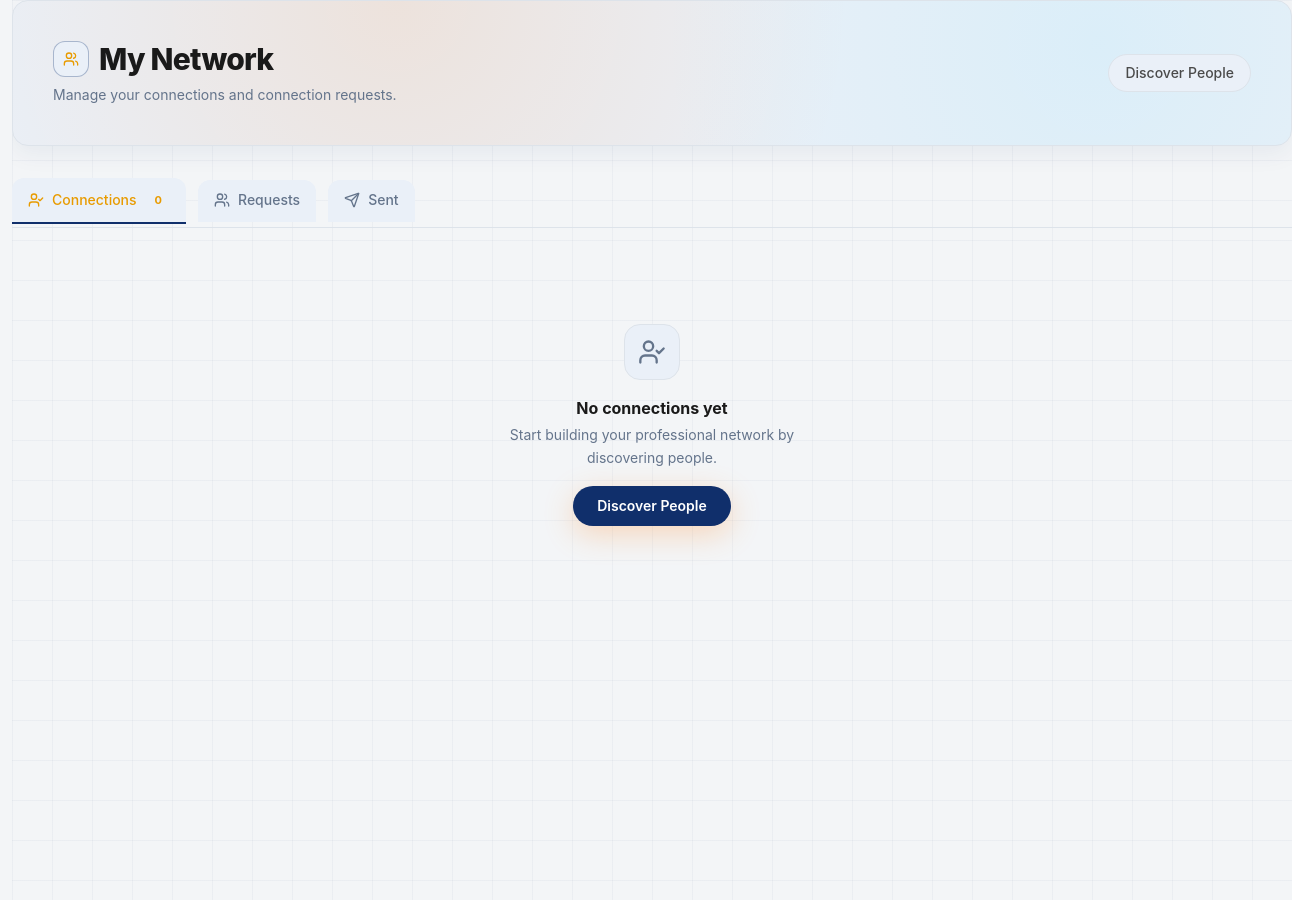
Test: 15. Rejected request disappears from Requests list
Click the tab "Requests": (257,201) [198,180,316,222]
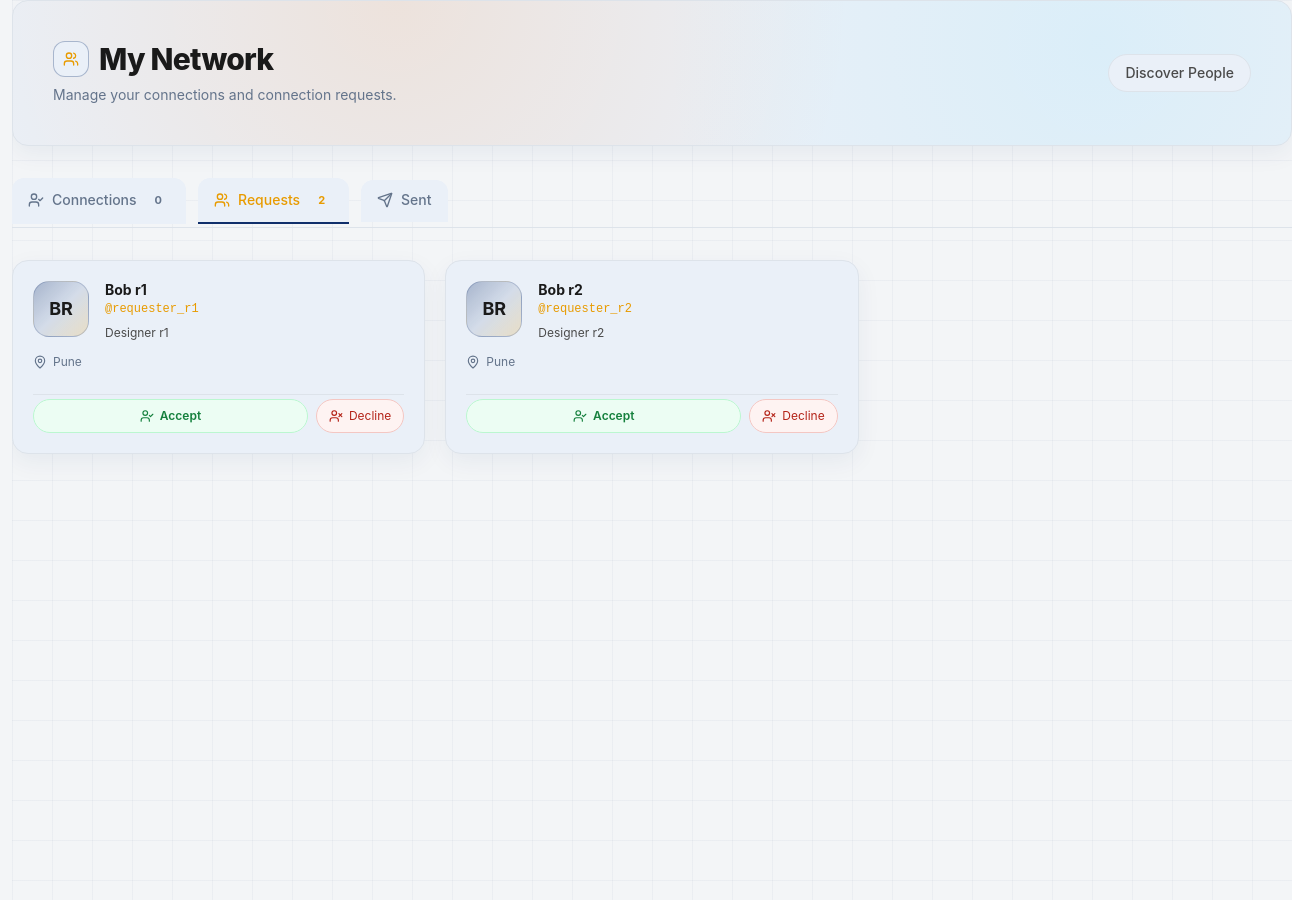
Result: the number of elements with test id "connection-card" is 2 at [12,260,425,454]; [445,260,859,454]
Click the button with test id "reject-btn": (360,416) [316,399,404,433]
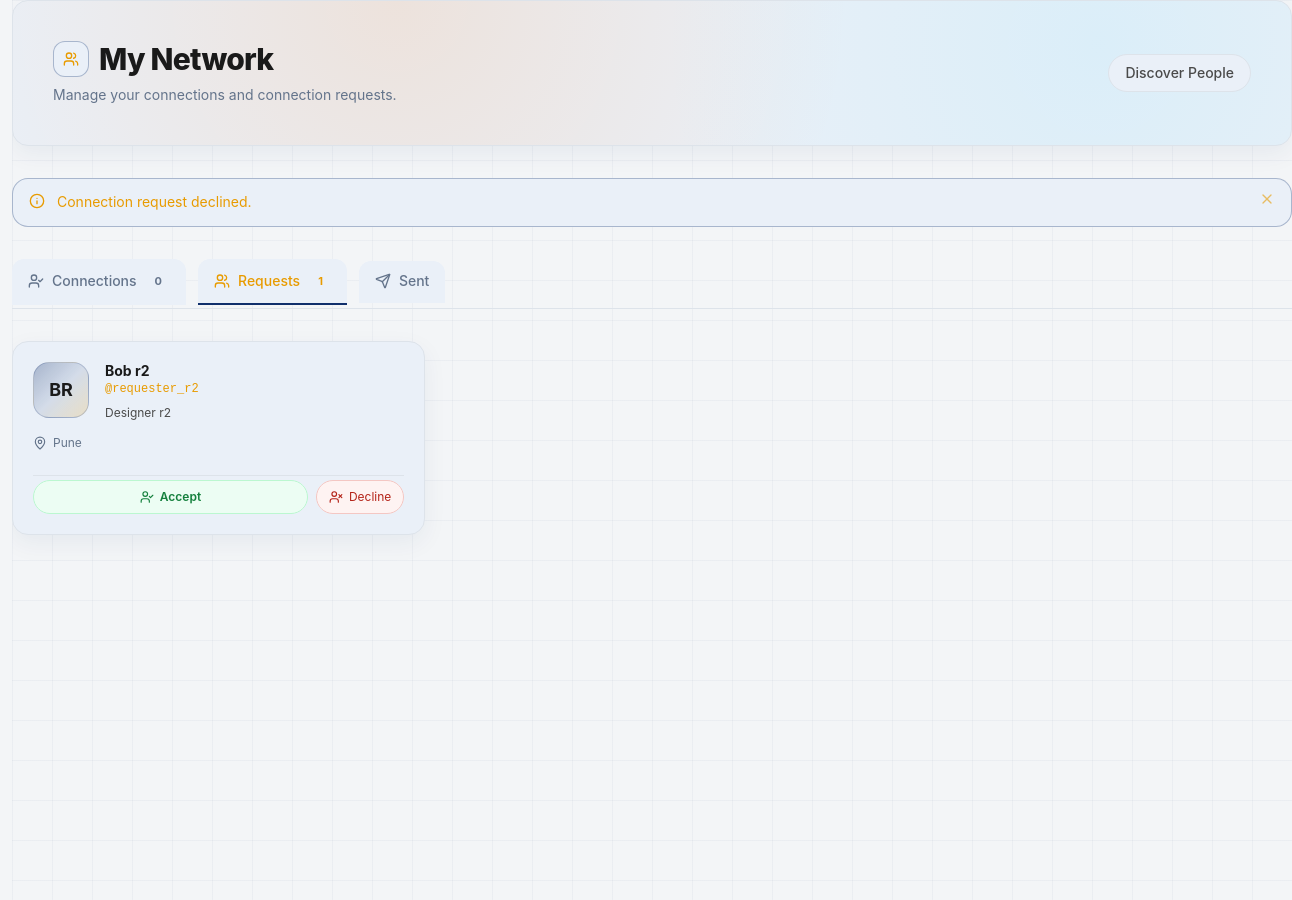
Result: the number of elements with test id "connection-card" is 1 at [12,341,425,535]
